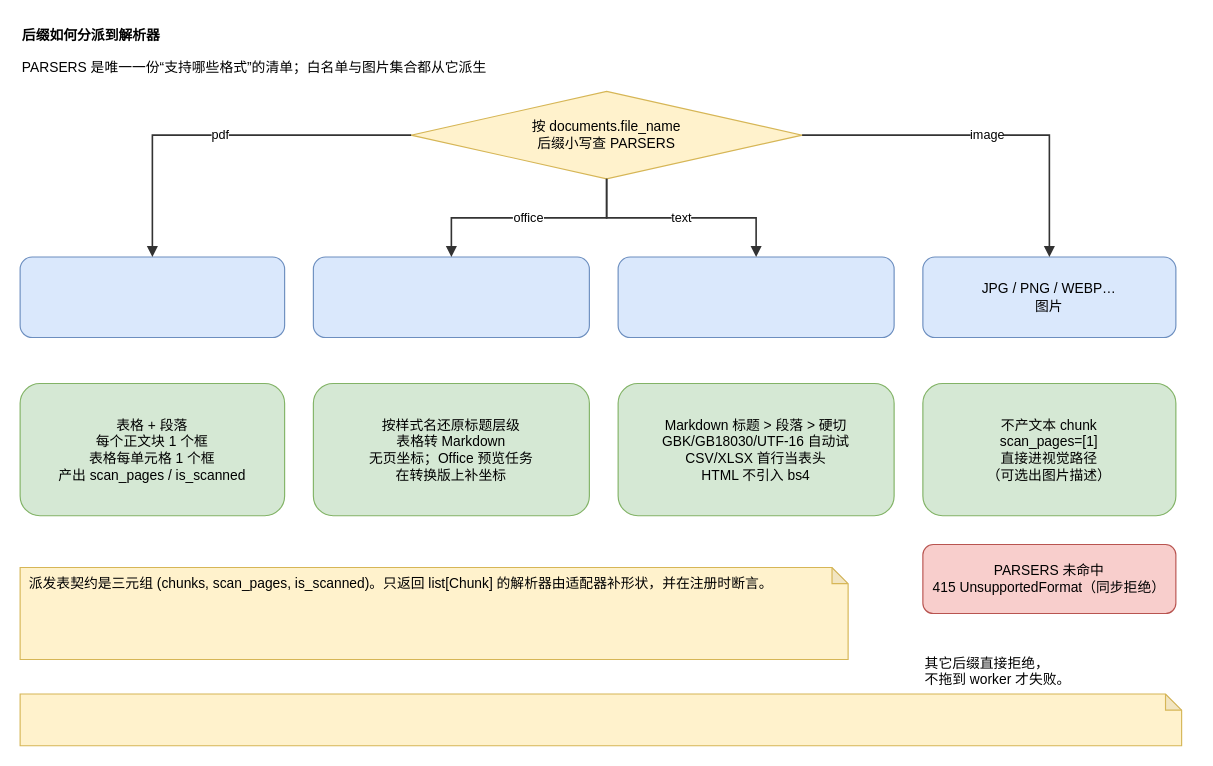
This 1213x766 diagram has some shape labels left out. The centre of each missing label's shape, as x and y in pixels:
DOCX / XLSX / PPTX python-docx / openpyxl / python-pptx: the point at 450,297
MD / TXT / JSON / CSV / HTML 读文本 + 标题/段落切: the point at 755,297
PDF pymupdf: the point at 152,297
扫描页判定：某页没有可用文本层 → 记 scan_pages；整份都没有 → is_scanned=true。空白页不算扫描页。: the point at 600,719
